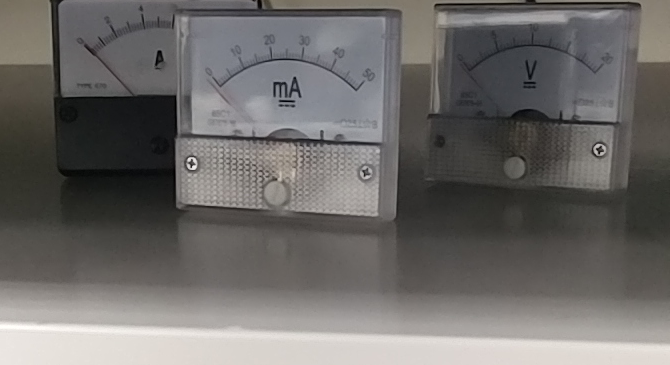Amp_Meter: (51, 1, 177, 98)
MilliAmp_Meter: (180, 10, 401, 146)
Volt_Meter: (431, 5, 637, 125)
